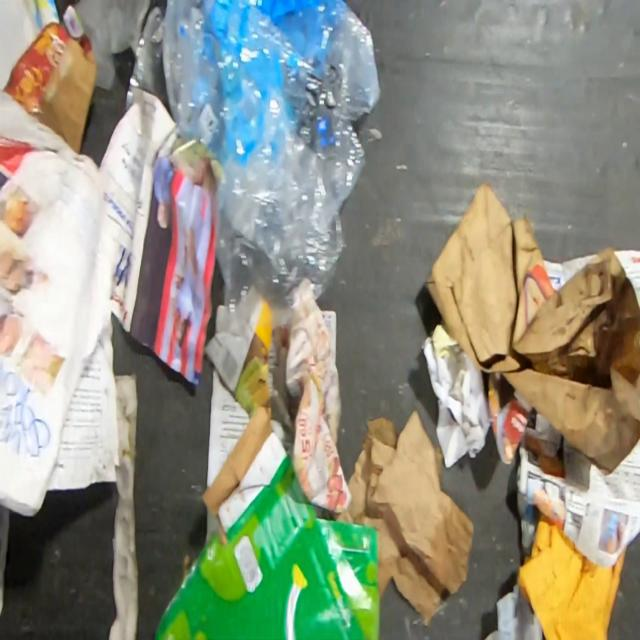cardboard: (152, 400, 381, 640), (2, 3, 100, 155)
soft_plastic: (124, 0, 384, 342), (72, 0, 152, 93)
